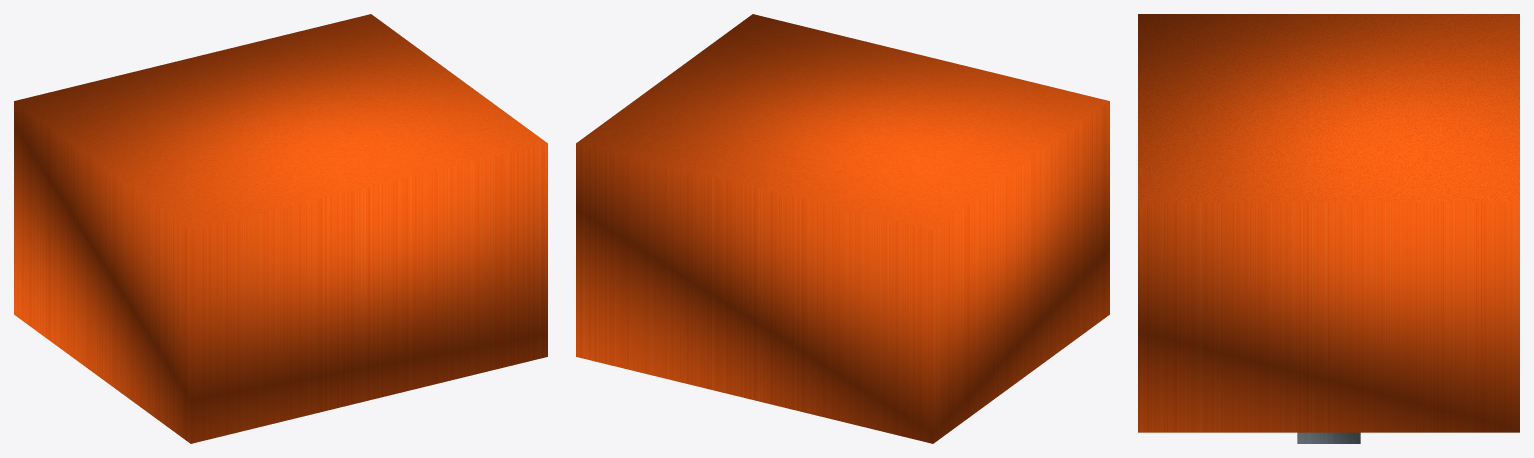
3 renders of one model, left to right at view 1: azimuth 30°, elevation 25°; view 2: azimuth 150°, elevation 25°; view 3: azimuth 270°, elevation 25°, orthographic. The views are drawn at different scales.
Visible parts, largest first — view 1: Jumper_Housing_0__PSMAT__Fault_Amber; view 2: Jumper_Housing_0__PSMAT__Fault_Amber; view 3: Jumper_Housing_0__PSMAT__Fault_Amber, Removable_Contact_2__PSMAT__Tin_Leads.
Boxes of the visible parts, box(x1,y1,x2,y2) form: Jumper_Housing_0__PSMAT__Fault_Amber: box(14, 14, 547, 443); Jumper_Housing_0__PSMAT__Fault_Amber: box(576, 14, 1109, 443); Jumper_Housing_0__PSMAT__Fault_Amber: box(1138, 14, 1519, 432); Removable_Contact_2__PSMAT__Tin_Leads: box(1297, 432, 1360, 443).
Bounding box in the file's own units: 0.007 × 0.0048 × 0.006.
Materials: 2 (2 with a texture image).
